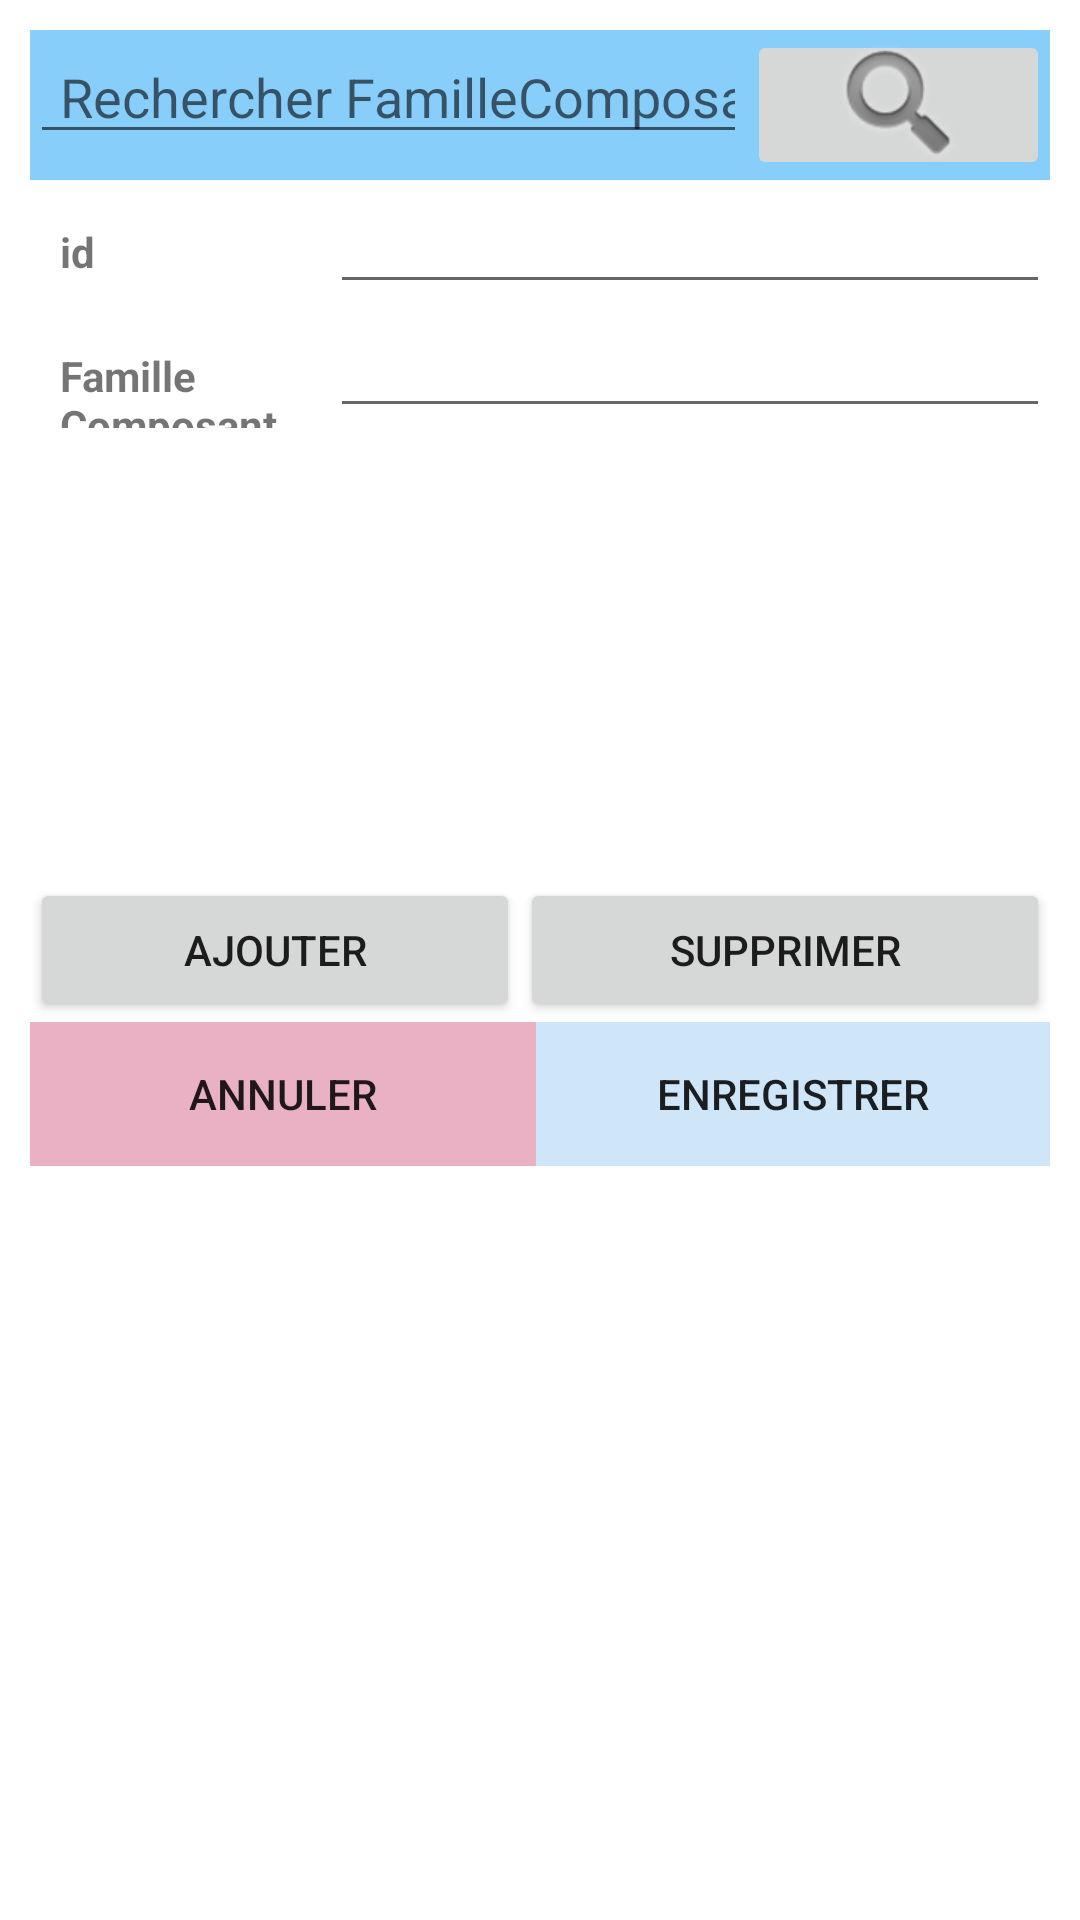

Named icons in this screenshot (1080 × 1920) and their bounding boxes, (x1, y1, x2, y2):
search category: (747, 30, 1050, 180)
